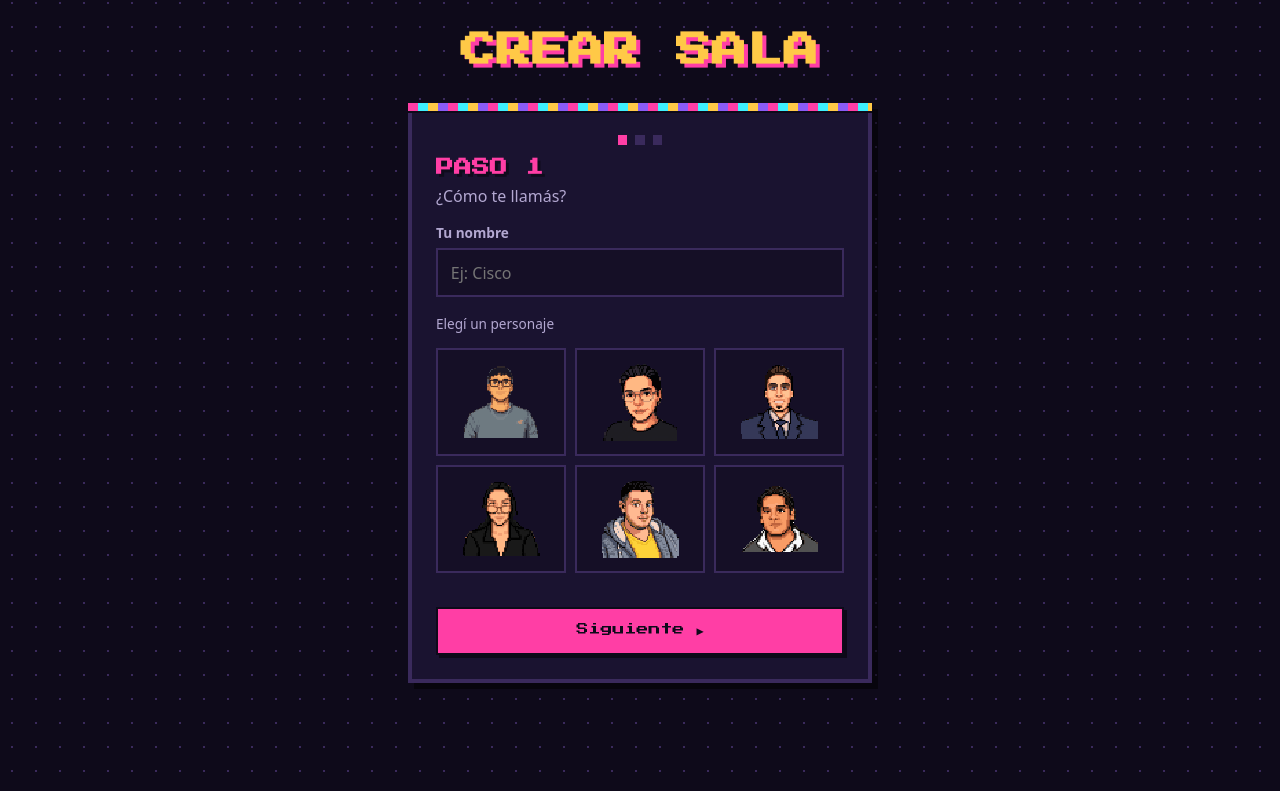
Test: CreateRoomPage — formulario no envía vacío › el paso de duraciones incluye el input de segundos por orador del Nivel 4, con default 90
In the field labelled "Tu nombre": [640, 273] box [436,248,844,297], type "Cisco"
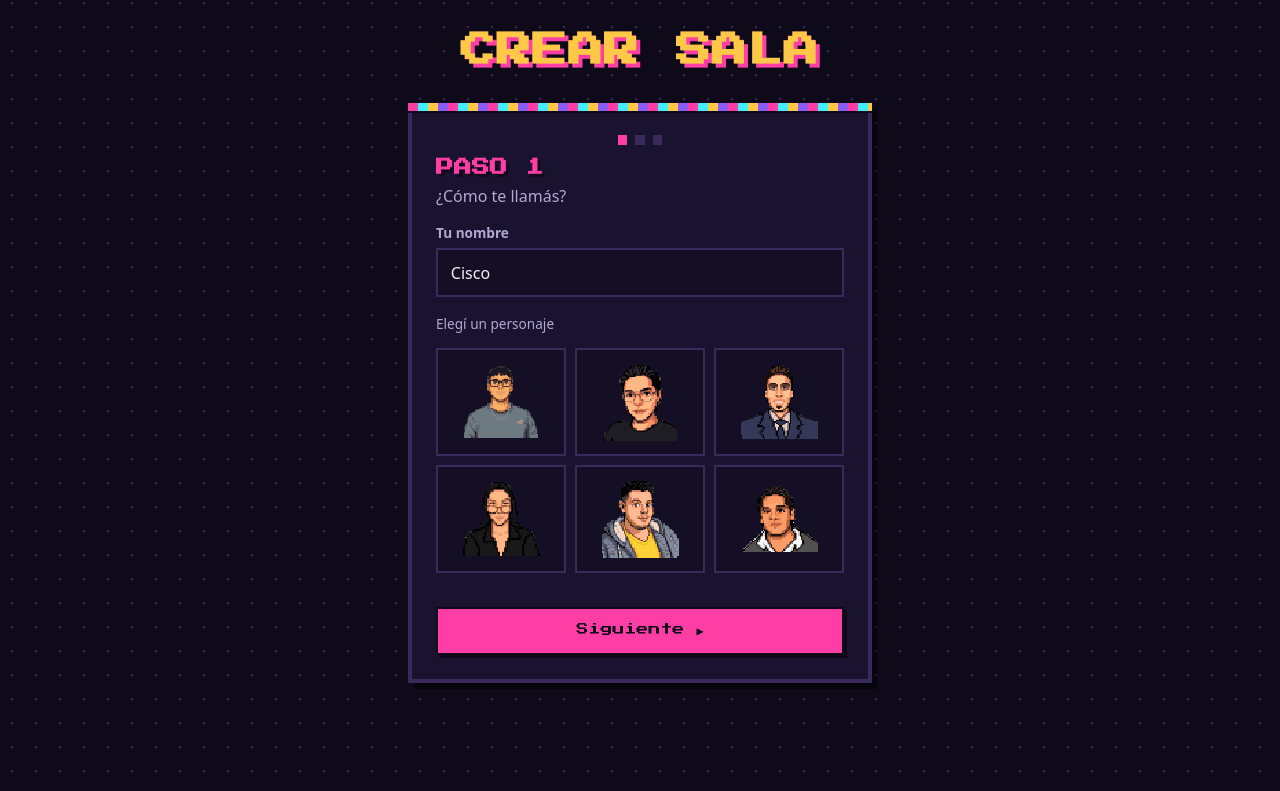
Click the button named "Cisco": [501, 402] box [436,348,566,456]
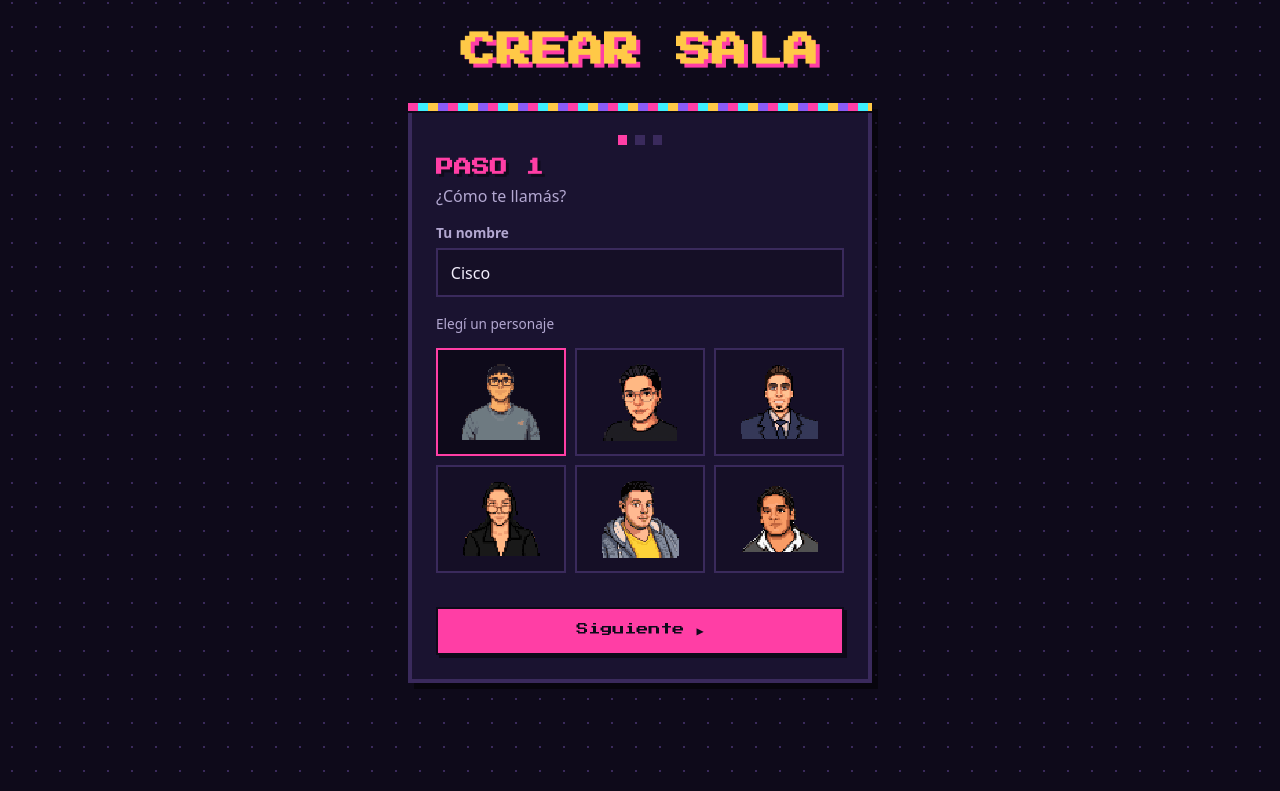
Click the button "Siguiente ▶": [640, 631] box [436,607,844,655]
(page scrolled)
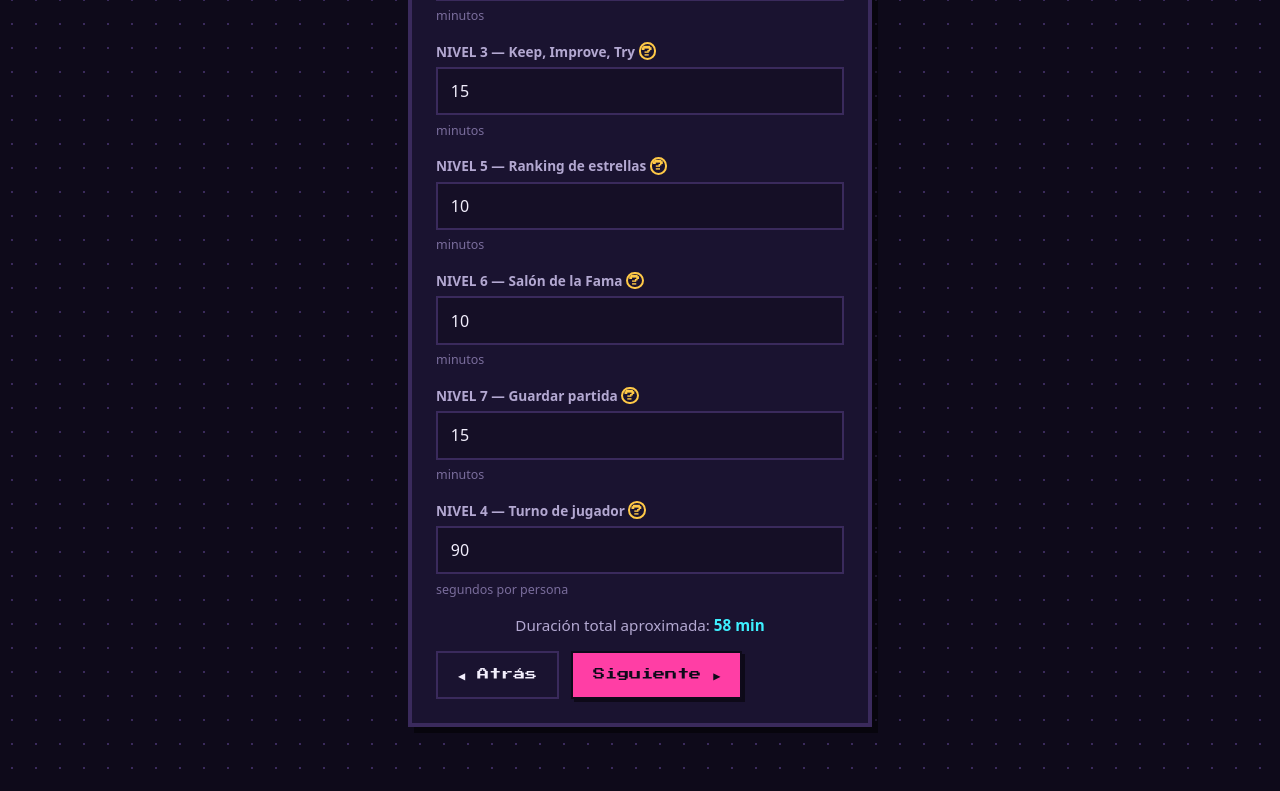
expect the text "segundos por persona" is shown: met, box [436,581,568,598]
